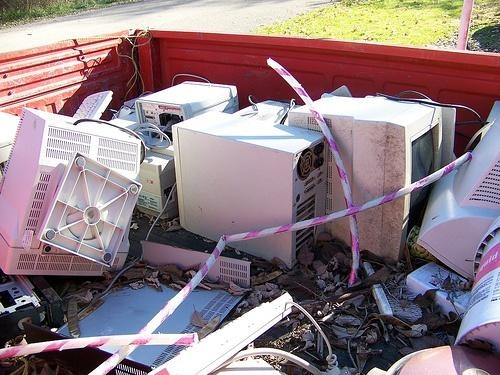tvmonitor: (289, 95, 446, 264), (1, 107, 138, 277), (416, 115, 500, 284)
